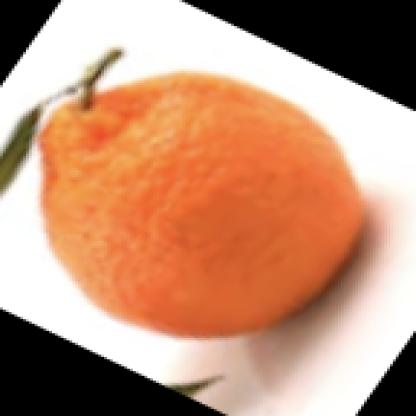fresh: (39, 71, 369, 342)
